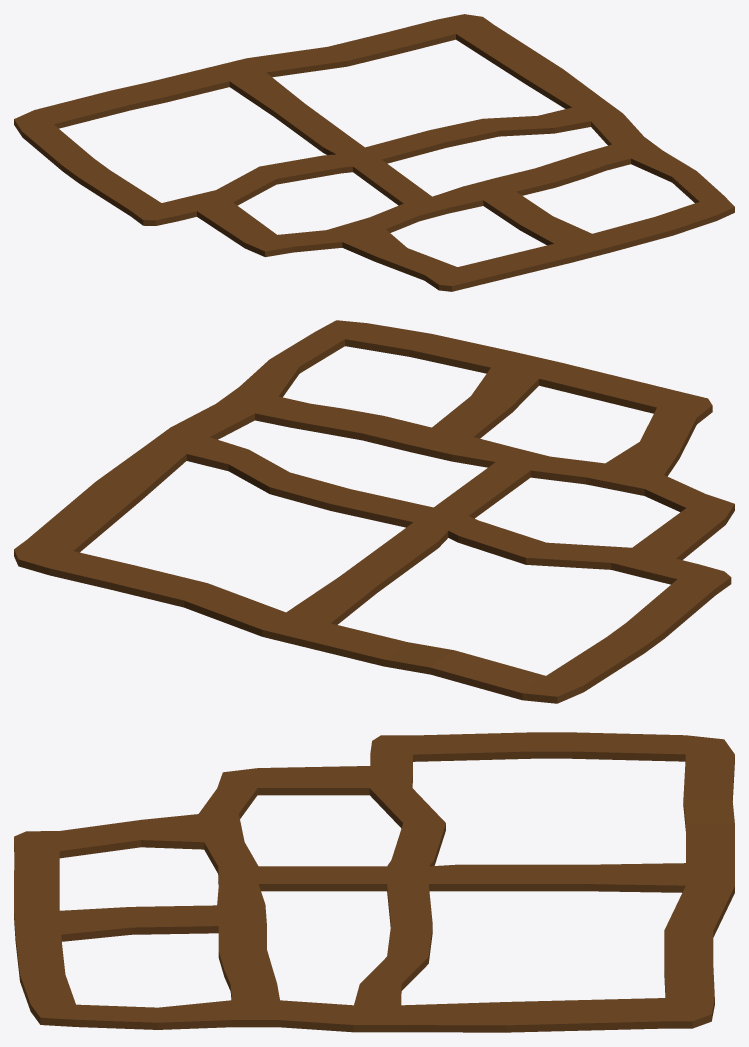
The model's file is Road.fbx.
The picture shows the model from 3 angles, top to bottom: view 1: azimuth 30°, elevation 25°; view 2: azimuth 150°, elevation 25°; view 3: azimuth 270°, elevation 25°; orthographic projection. The views are drawn at different scales.
Visible parts, largest first — view 1: pCube1; view 2: pCube1; view 3: pCube1.
Part boxes in pixels (x1,y1,x2,y2): pCube1: (14,14,734,291); pCube1: (14,320,734,703); pCube1: (14,732,734,1032).
Bounding box in the file's own units: 16.61 × 0.2578 × 17.28.
